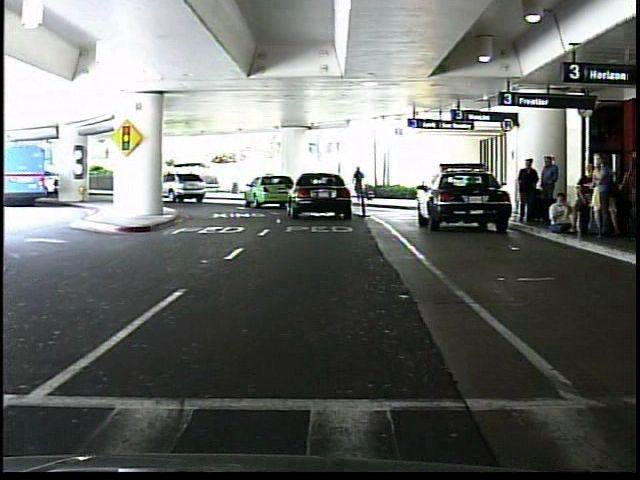person: (537, 151, 559, 231), (518, 152, 541, 223), (353, 164, 369, 205)
